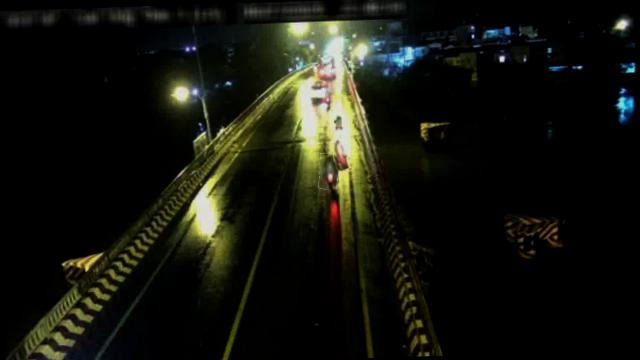Bike: (318, 153, 339, 190), (332, 138, 351, 170)
